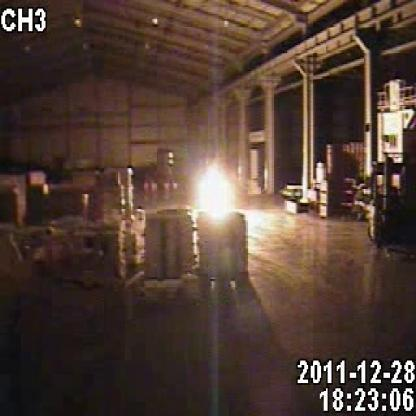fire: (185, 147, 250, 241)
